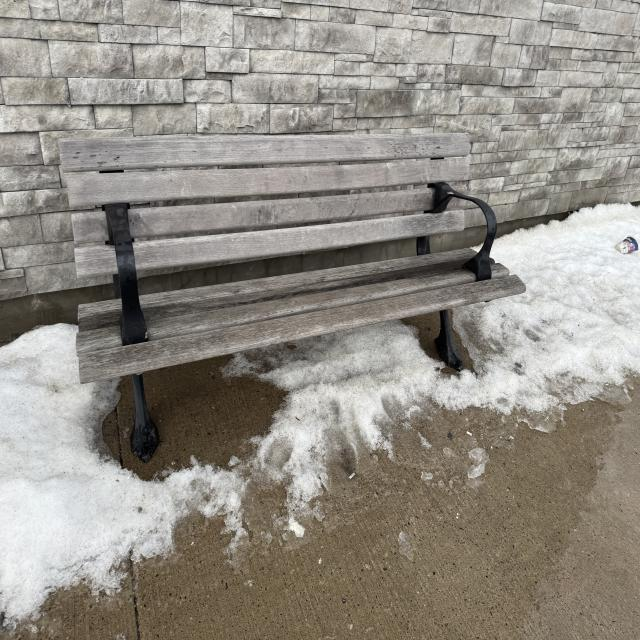Bench: (57, 136, 521, 429)
